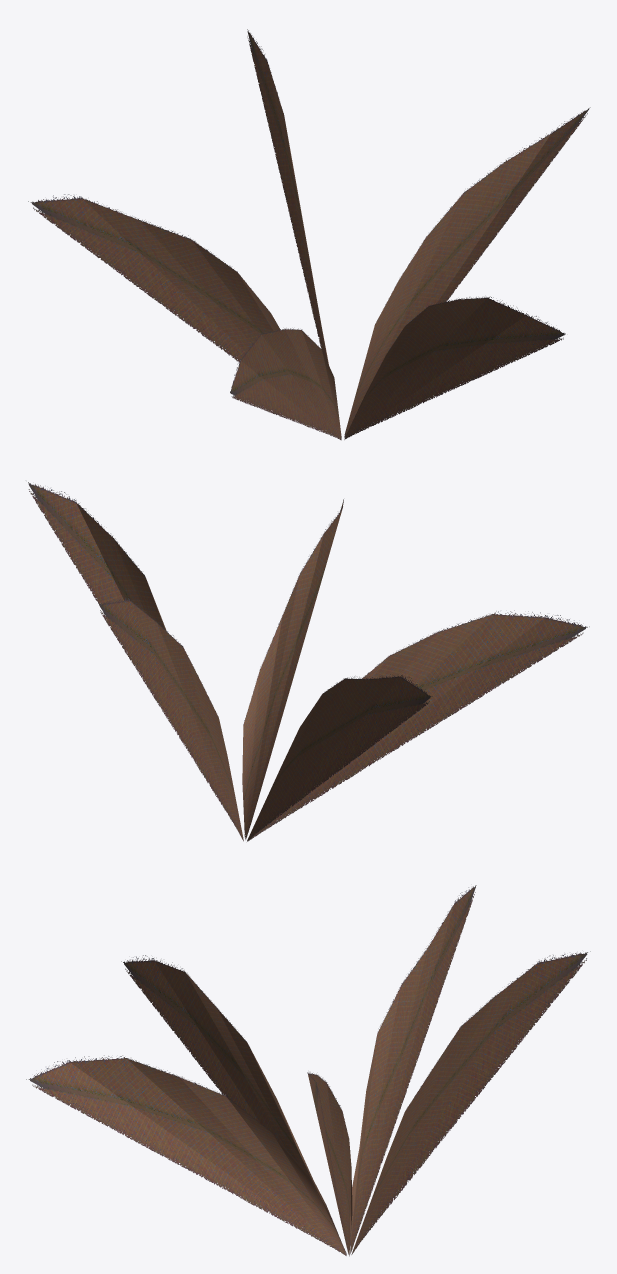
File: orangeblue.obj
3 views of the same model, one above another, from view 1: azimuth 30°, elevation 25°; view 2: azimuth 150°, elevation 25°; view 3: azimuth 270°, elevation 25° (orthographic).
Bounding box in the file's own units: 13.92 × 8.66 × 14.08.
